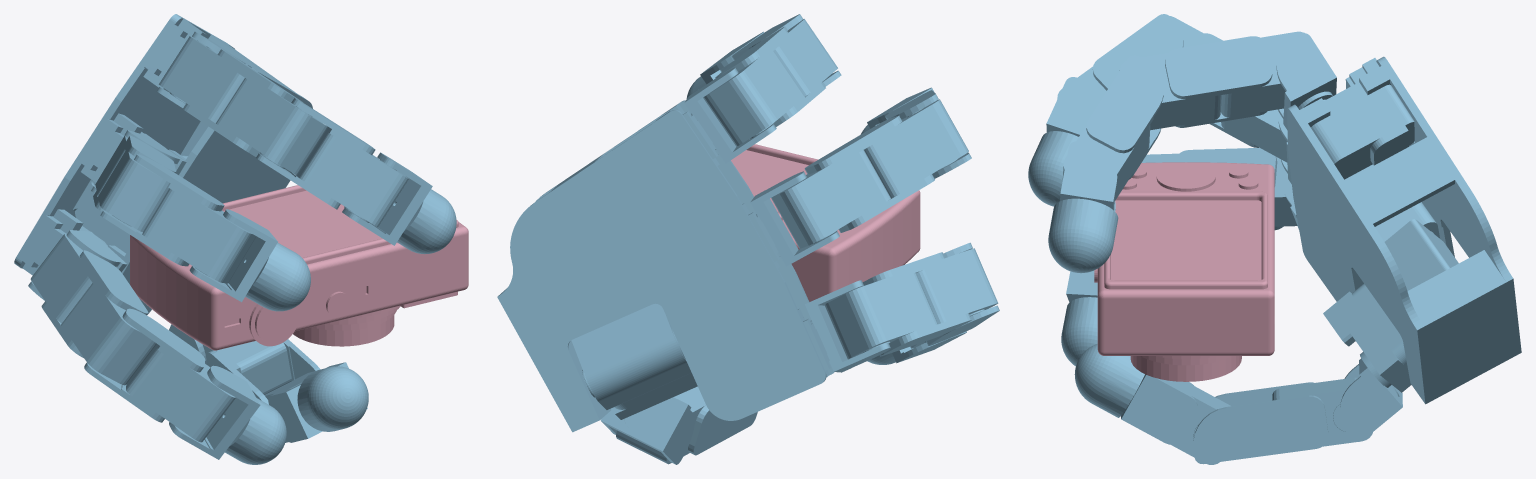
3 views of the same model, side by side, from view 1: azimuth 30°, elevation 25°; view 2: azimuth 150°, elevation 25°; view 3: azimuth 270°, elevation 25° (orthographic). The views are drawn at different scales.
Parts seen in each view (by area): view 1: world, camera.stl; view 2: world, camera.stl; view 3: world, camera.stl.
Part boxes in pixels (x1,y1,x2,y2): world: [14, 14, 456, 464]; camera.stl: [130, 185, 468, 350]; world: [497, 14, 999, 464]; camera.stl: [731, 144, 920, 301]; world: [1028, 14, 1521, 464]; camera.stl: [1094, 162, 1274, 381].
Size of the model in its own units: 0.1568 by 0.1618 by 0.1805.
